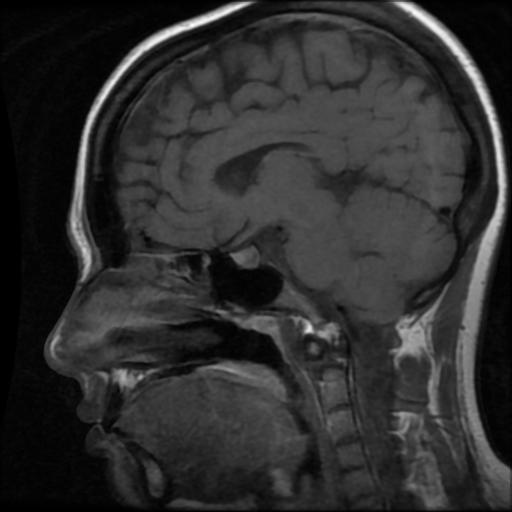Pituirity_tumour: (230, 247, 261, 267)
